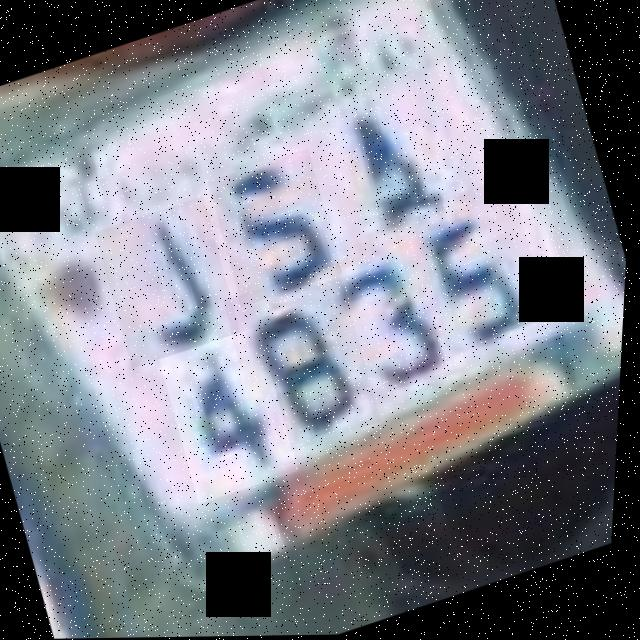3: (297, 220, 482, 419)
4: (157, 326, 311, 505)
5: (387, 177, 561, 366)
8: (220, 262, 394, 461)
J: (92, 196, 250, 370)
S: (204, 149, 351, 308)
